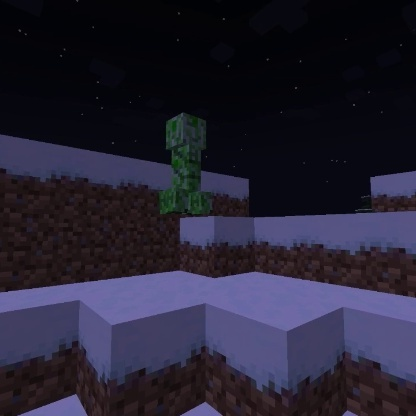creeper: (157, 111, 215, 218)
